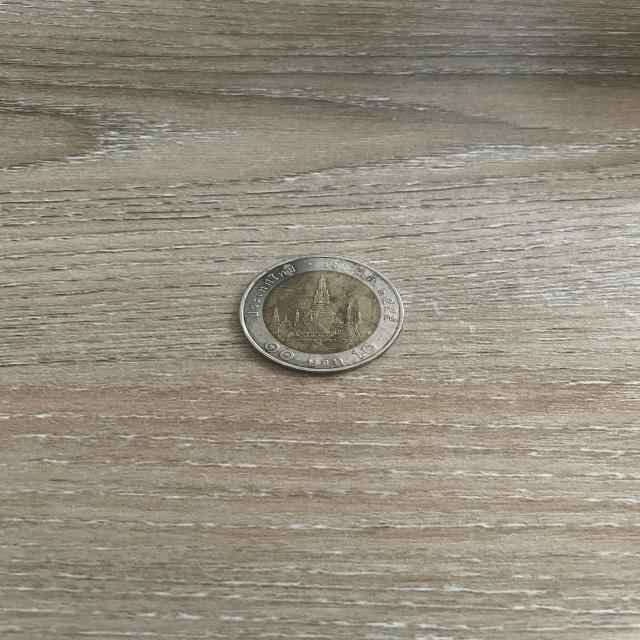10 Bath: (198, 243, 434, 387)
